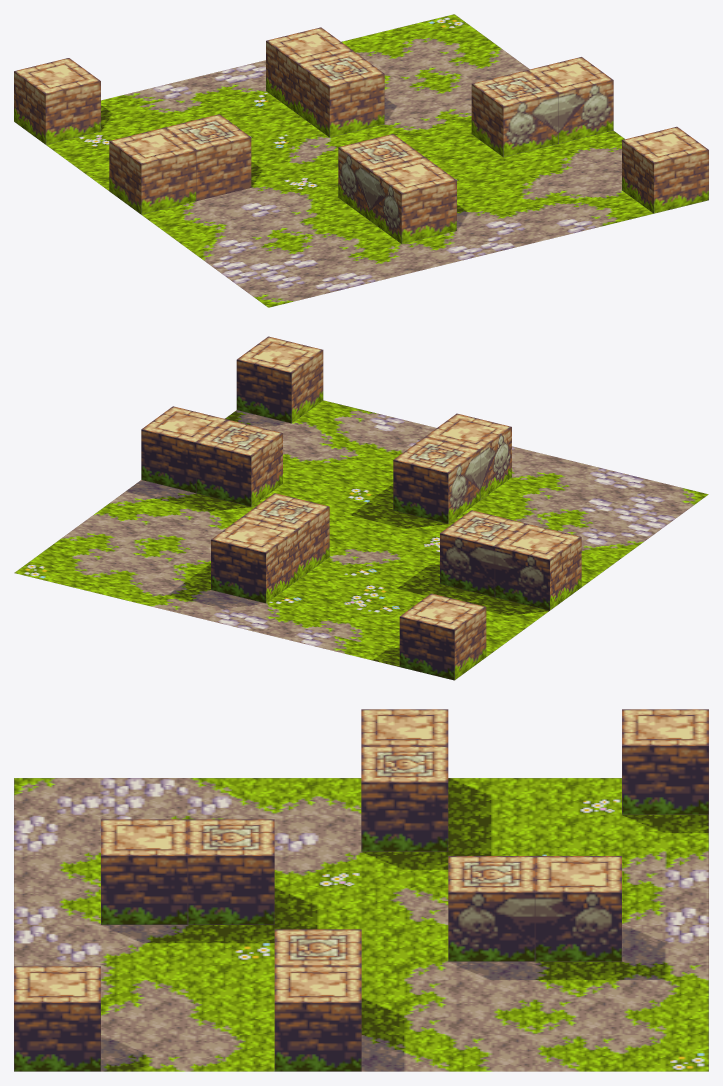
File: ChaoRuins.fbx
The picture shows the model from 3 angles, top to bottom: view 1: azimuth 30°, elevation 25°; view 2: azimuth 150°, elevation 25°; view 3: azimuth 270°, elevation 25°; orthographic projection. The views are drawn at different scales.
Parts seen in each view (by area): view 1: plane, cube_1, cube_7, cube_9, cube_4, cube_6, cube, cube_2, cube_8, cube_3, cube_5; view 2: plane, cube_3, cube, cube_9, cube_5, cube_1, cube_7, cube_8, cube_2, cube_4, cube_6; view 3: plane, cube_2, cube_3, cube_6, cube_8, cube, cube_4, cube_5, cube_9, cube_7, cube_1.
Part boxes in pixels (x1,y1,x2,y2): plane: (46,14,653,307); cube_1: (109,127,196,214); cube_7: (471,70,558,157); cube_9: (622,126,708,213); cube_4: (370,157,456,243); cube_6: (298,50,384,137); cube: (14,58,100,144); cube_2: (165,114,251,201); cube_8: (527,57,613,143); cube_3: (338,134,424,220); cube_5: (266,27,352,113); plane: (14,400,708,666); cube_3: (393,436,480,523); cube: (399,593,486,680); cube_9: (236,336,323,423); cube_5: (211,516,297,603); cube_1: (495,523,581,610); cube_7: (196,419,282,506); cube_8: (141,406,227,493); cube_2: (440,510,526,597); cube_4: (425,413,511,499); cube_6: (243,493,329,579); plane: (14,778,708,1071); cube_2: (361,746,448,851); cube_3: (187,819,274,924); cube_6: (448,856,535,961); cube_8: (274,966,361,1071); cube: (622,709,708,814); cube_4: (101,819,187,924); cube_5: (535,856,621,961); cube_9: (14,966,100,1071); cube_7: (274,929,361,966); cube_1: (361,709,448,745).
Bounding box in the file's own units: 400 × 43.75 × 400.
1 material, 1 textured.
